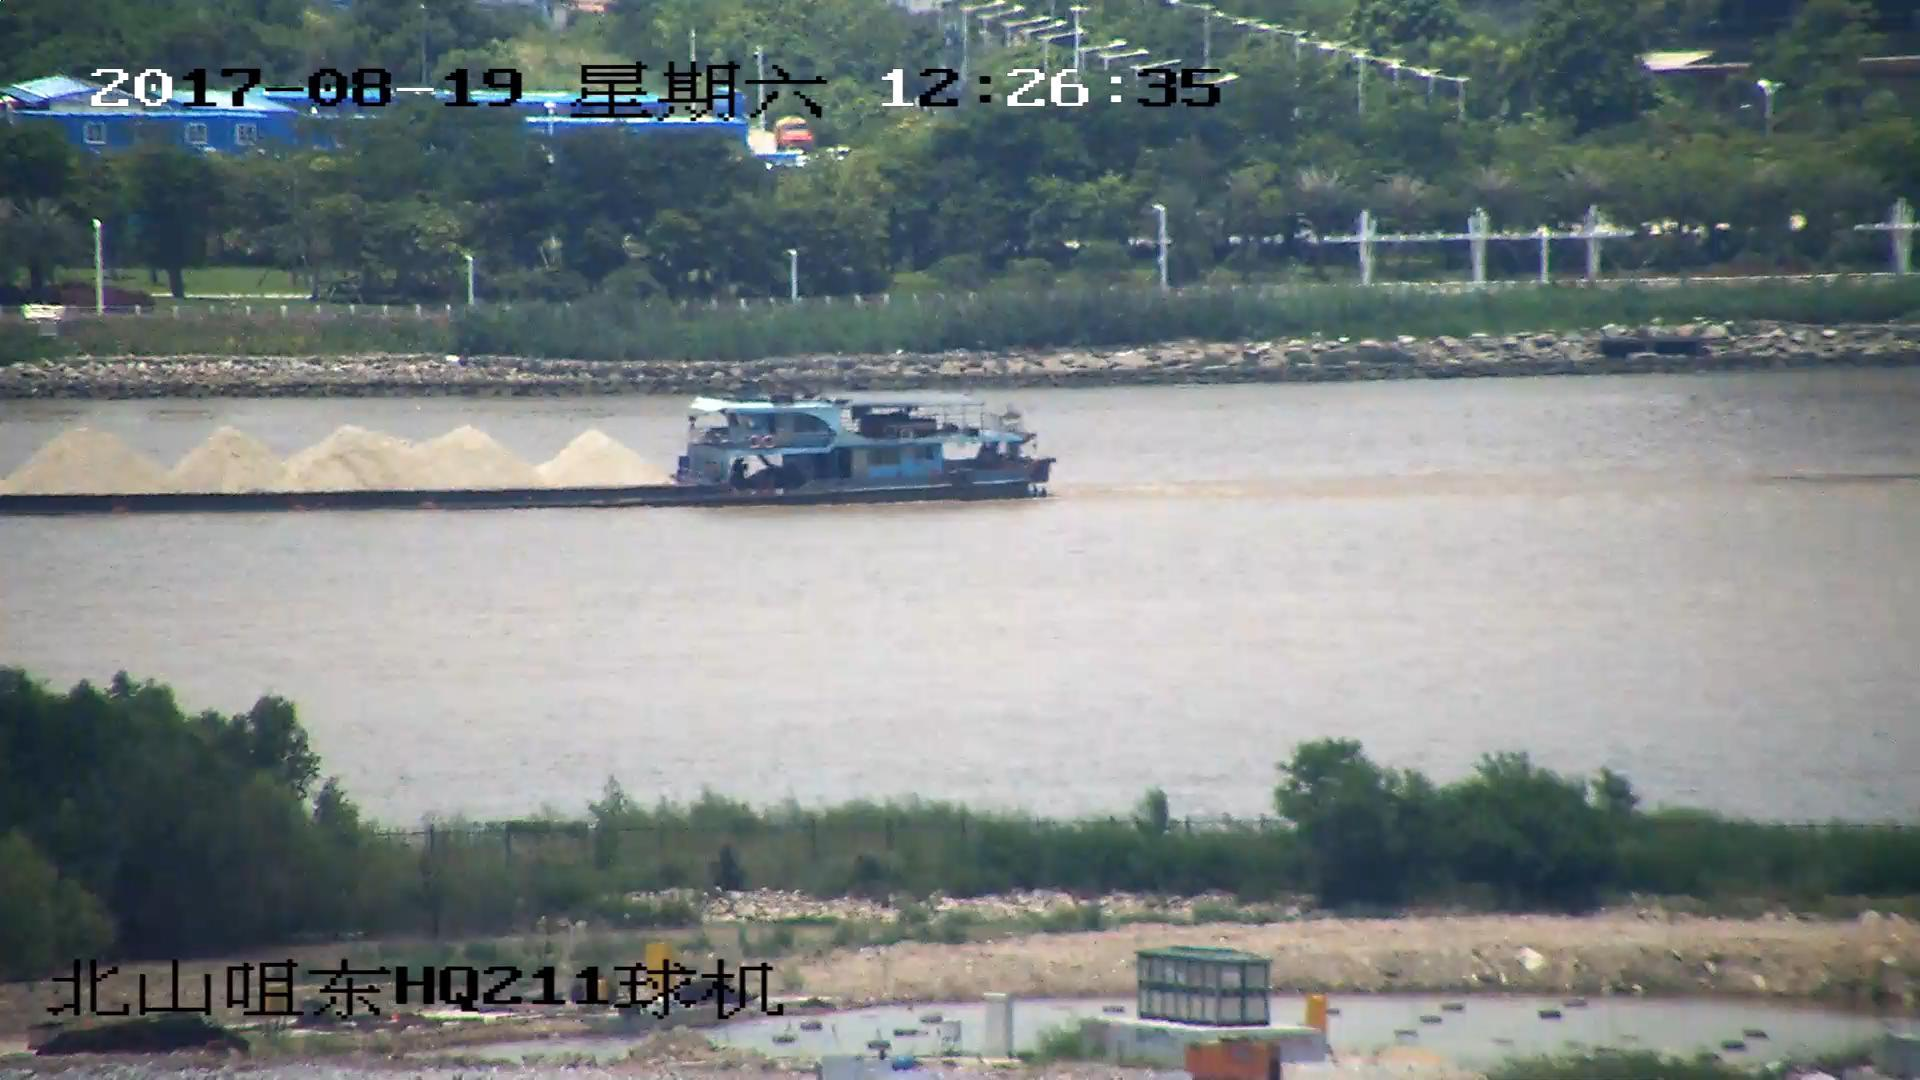Ship: (3, 386, 1055, 516)
